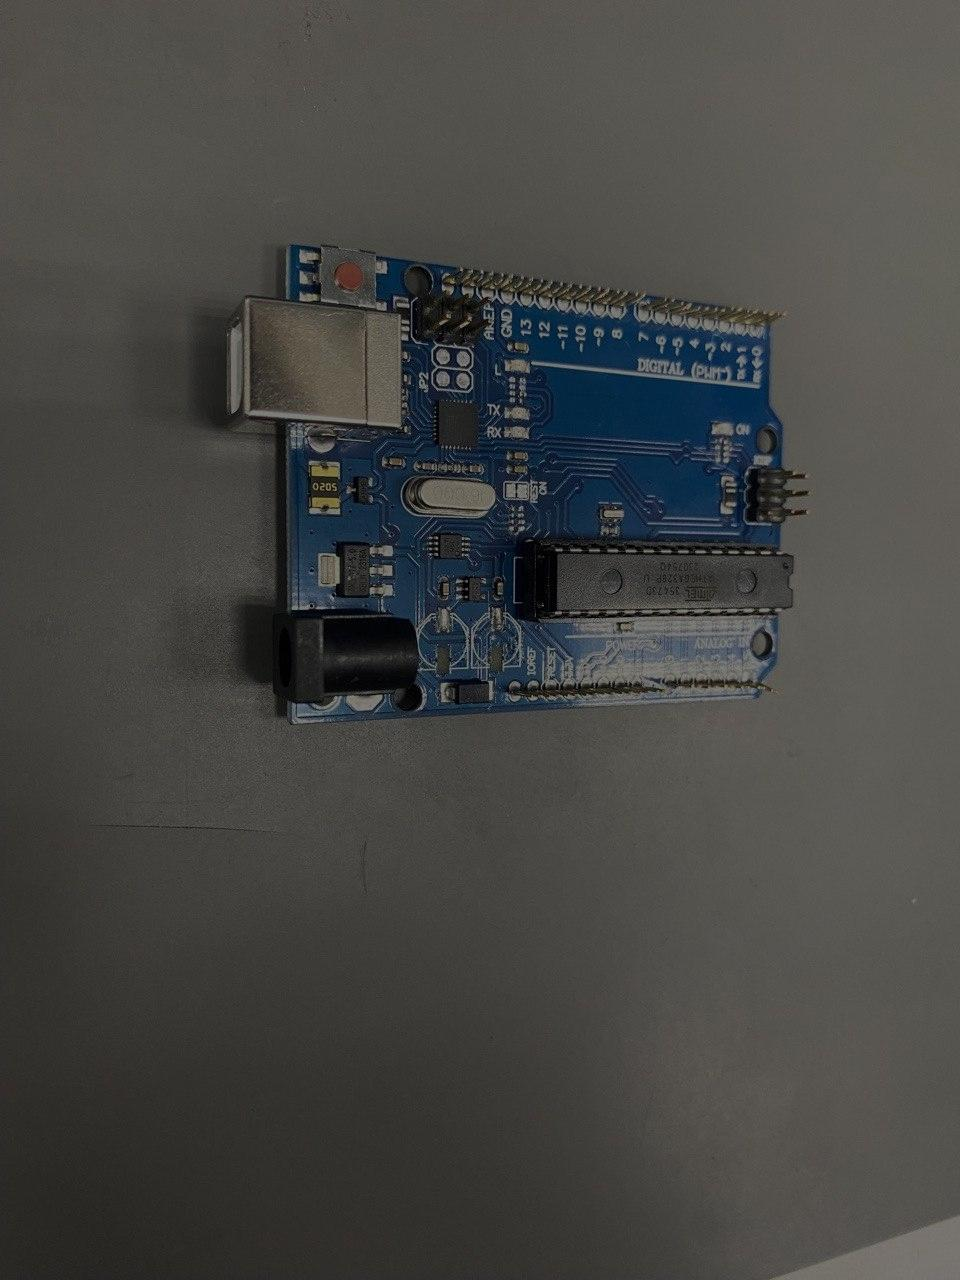ATmega328 chip: (519, 537, 794, 624)
Arduino board: (222, 243, 811, 726)
USB: (225, 294, 401, 442)
